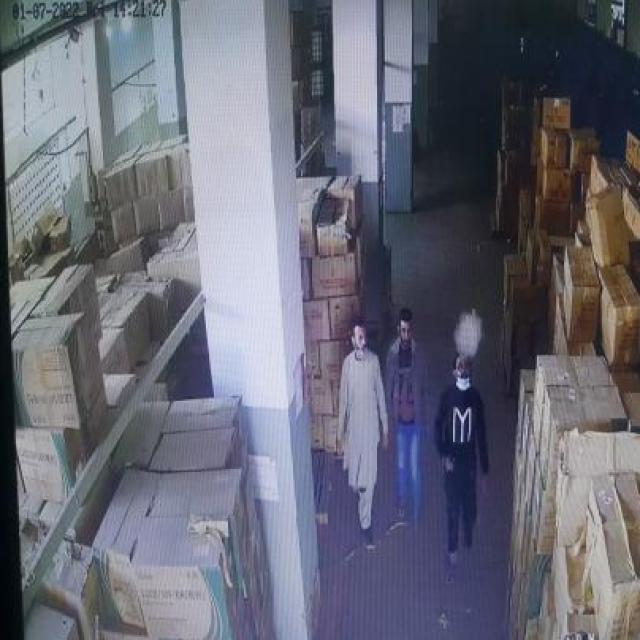fire: (448, 302, 486, 367)
